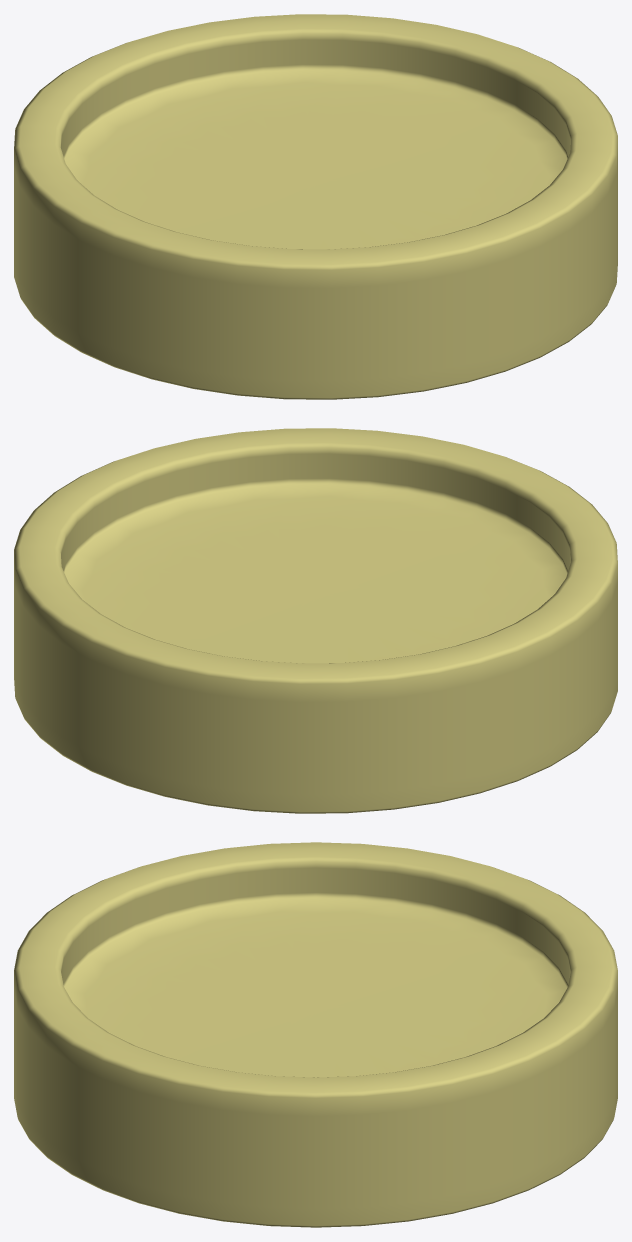
Rendered from jarLid.fbx.
The picture shows the model from 3 angles, top to bottom: view 1: azimuth 30°, elevation 25°; view 2: azimuth 150°, elevation 25°; view 3: azimuth 270°, elevation 25°; orthographic projection.
Parts seen in each view (by area): view 1: pCylinder6; view 2: pCylinder6; view 3: pCylinder6.
Part boxes in pixels (x1=…): pCylinder6: x1=14, y1=14, x2=617, y2=399; pCylinder6: x1=14, y1=428, x2=617, y2=813; pCylinder6: x1=14, y1=842, x2=617, y2=1227.
Size of the model in its own units: 5.02 by 1.23 by 5.02.
